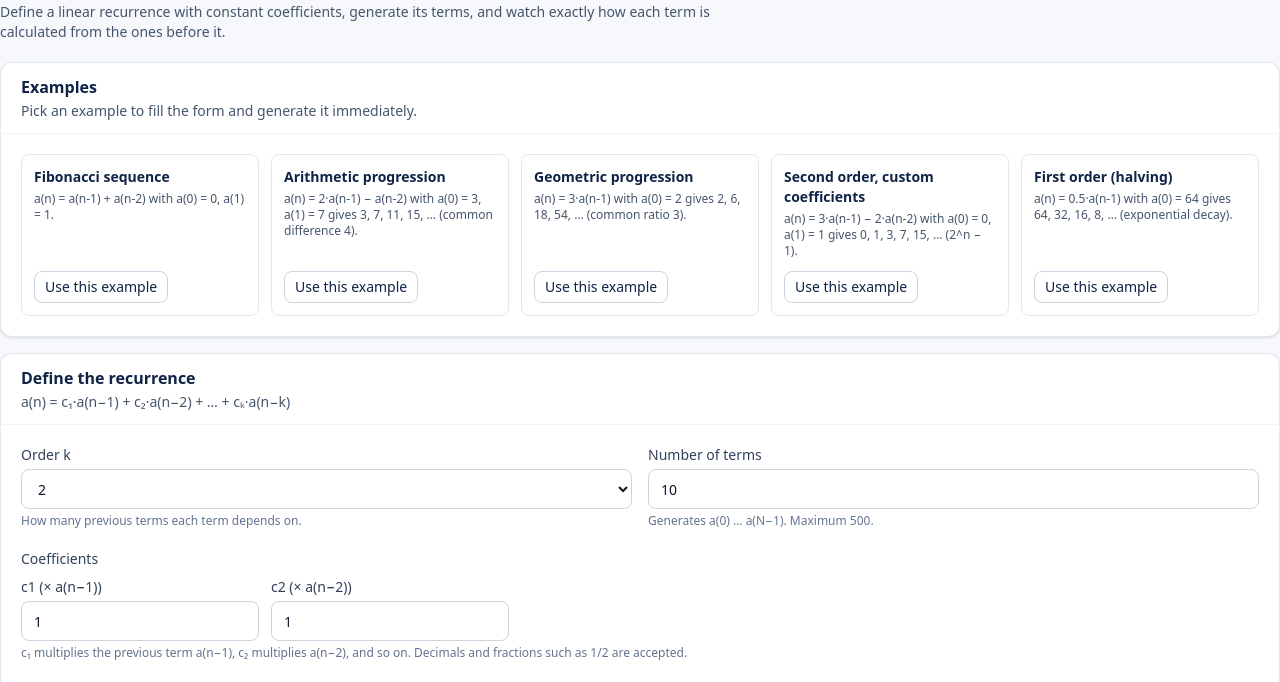
Test case: Recurrence Lab › shows a precision warning when Fibonacci terms exceed 2^53
This screenshot has width=1280, height=682.
Replace the text in the field labelled "Number of terms" with "100": (954, 489) [648, 469, 1259, 509]
(page scrolled)
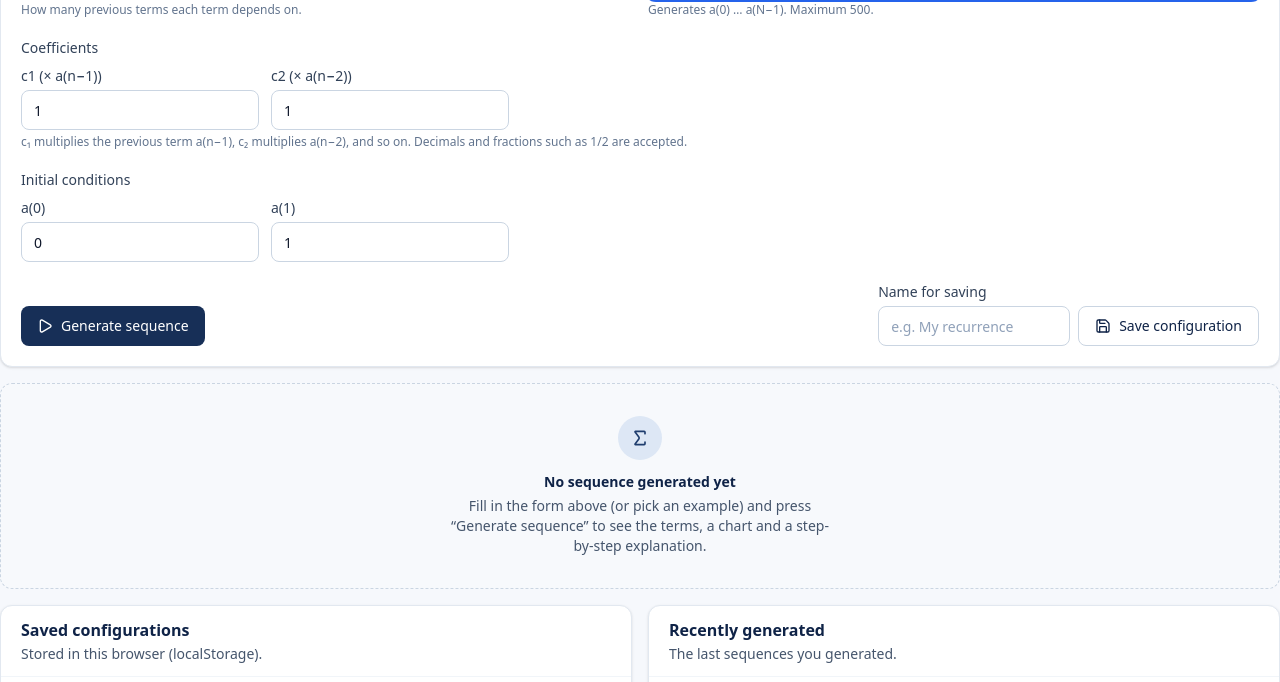
Click the button "Generate sequence": (113, 326) [21, 306, 205, 346]
(page scrolled)
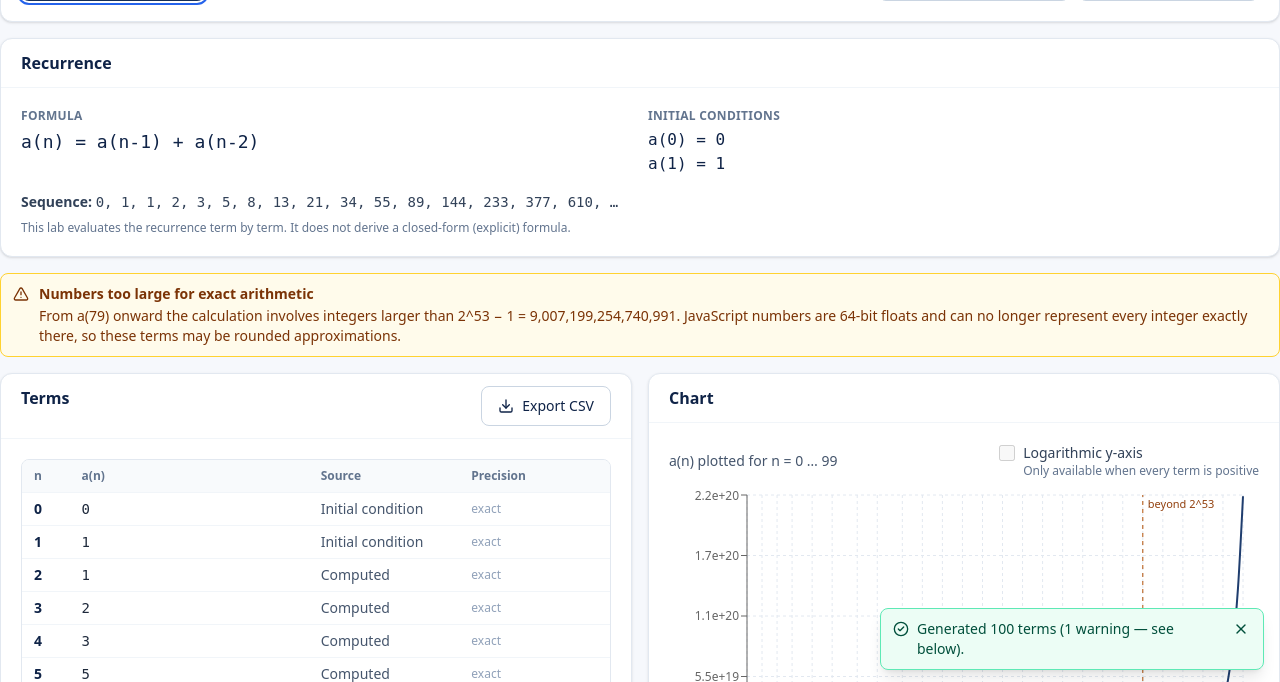
Result: the text "Numbers too large for exact arithmetic" is shown at [39, 284, 314, 303]
Result: the text "From a(79) onward" is shown at [39, 306, 1247, 345]
